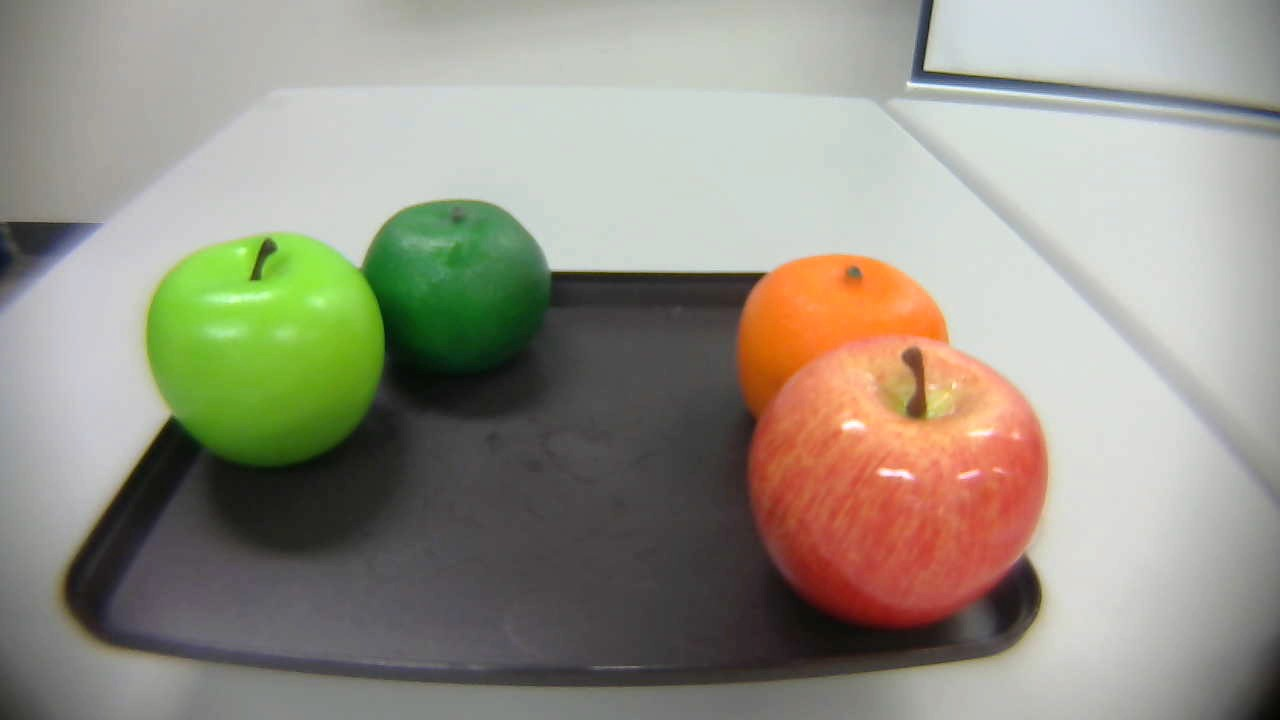green apple: (145, 230, 392, 473)
green orange: (358, 191, 558, 393)
orange: (712, 256, 960, 414)
red apple: (739, 329, 1051, 629)
